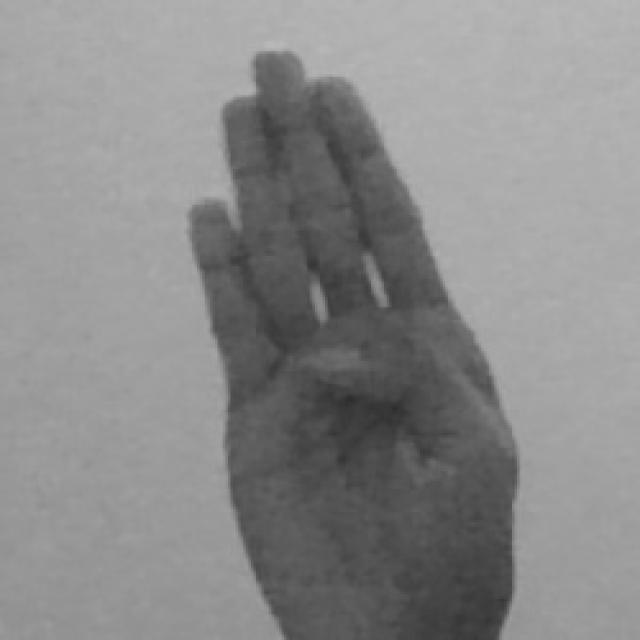B: (185, 45, 522, 640)
